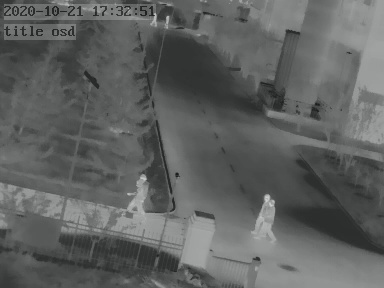person: (127, 171, 149, 222), (260, 199, 276, 240), (255, 193, 270, 234), (163, 14, 171, 30), (151, 12, 158, 29)
